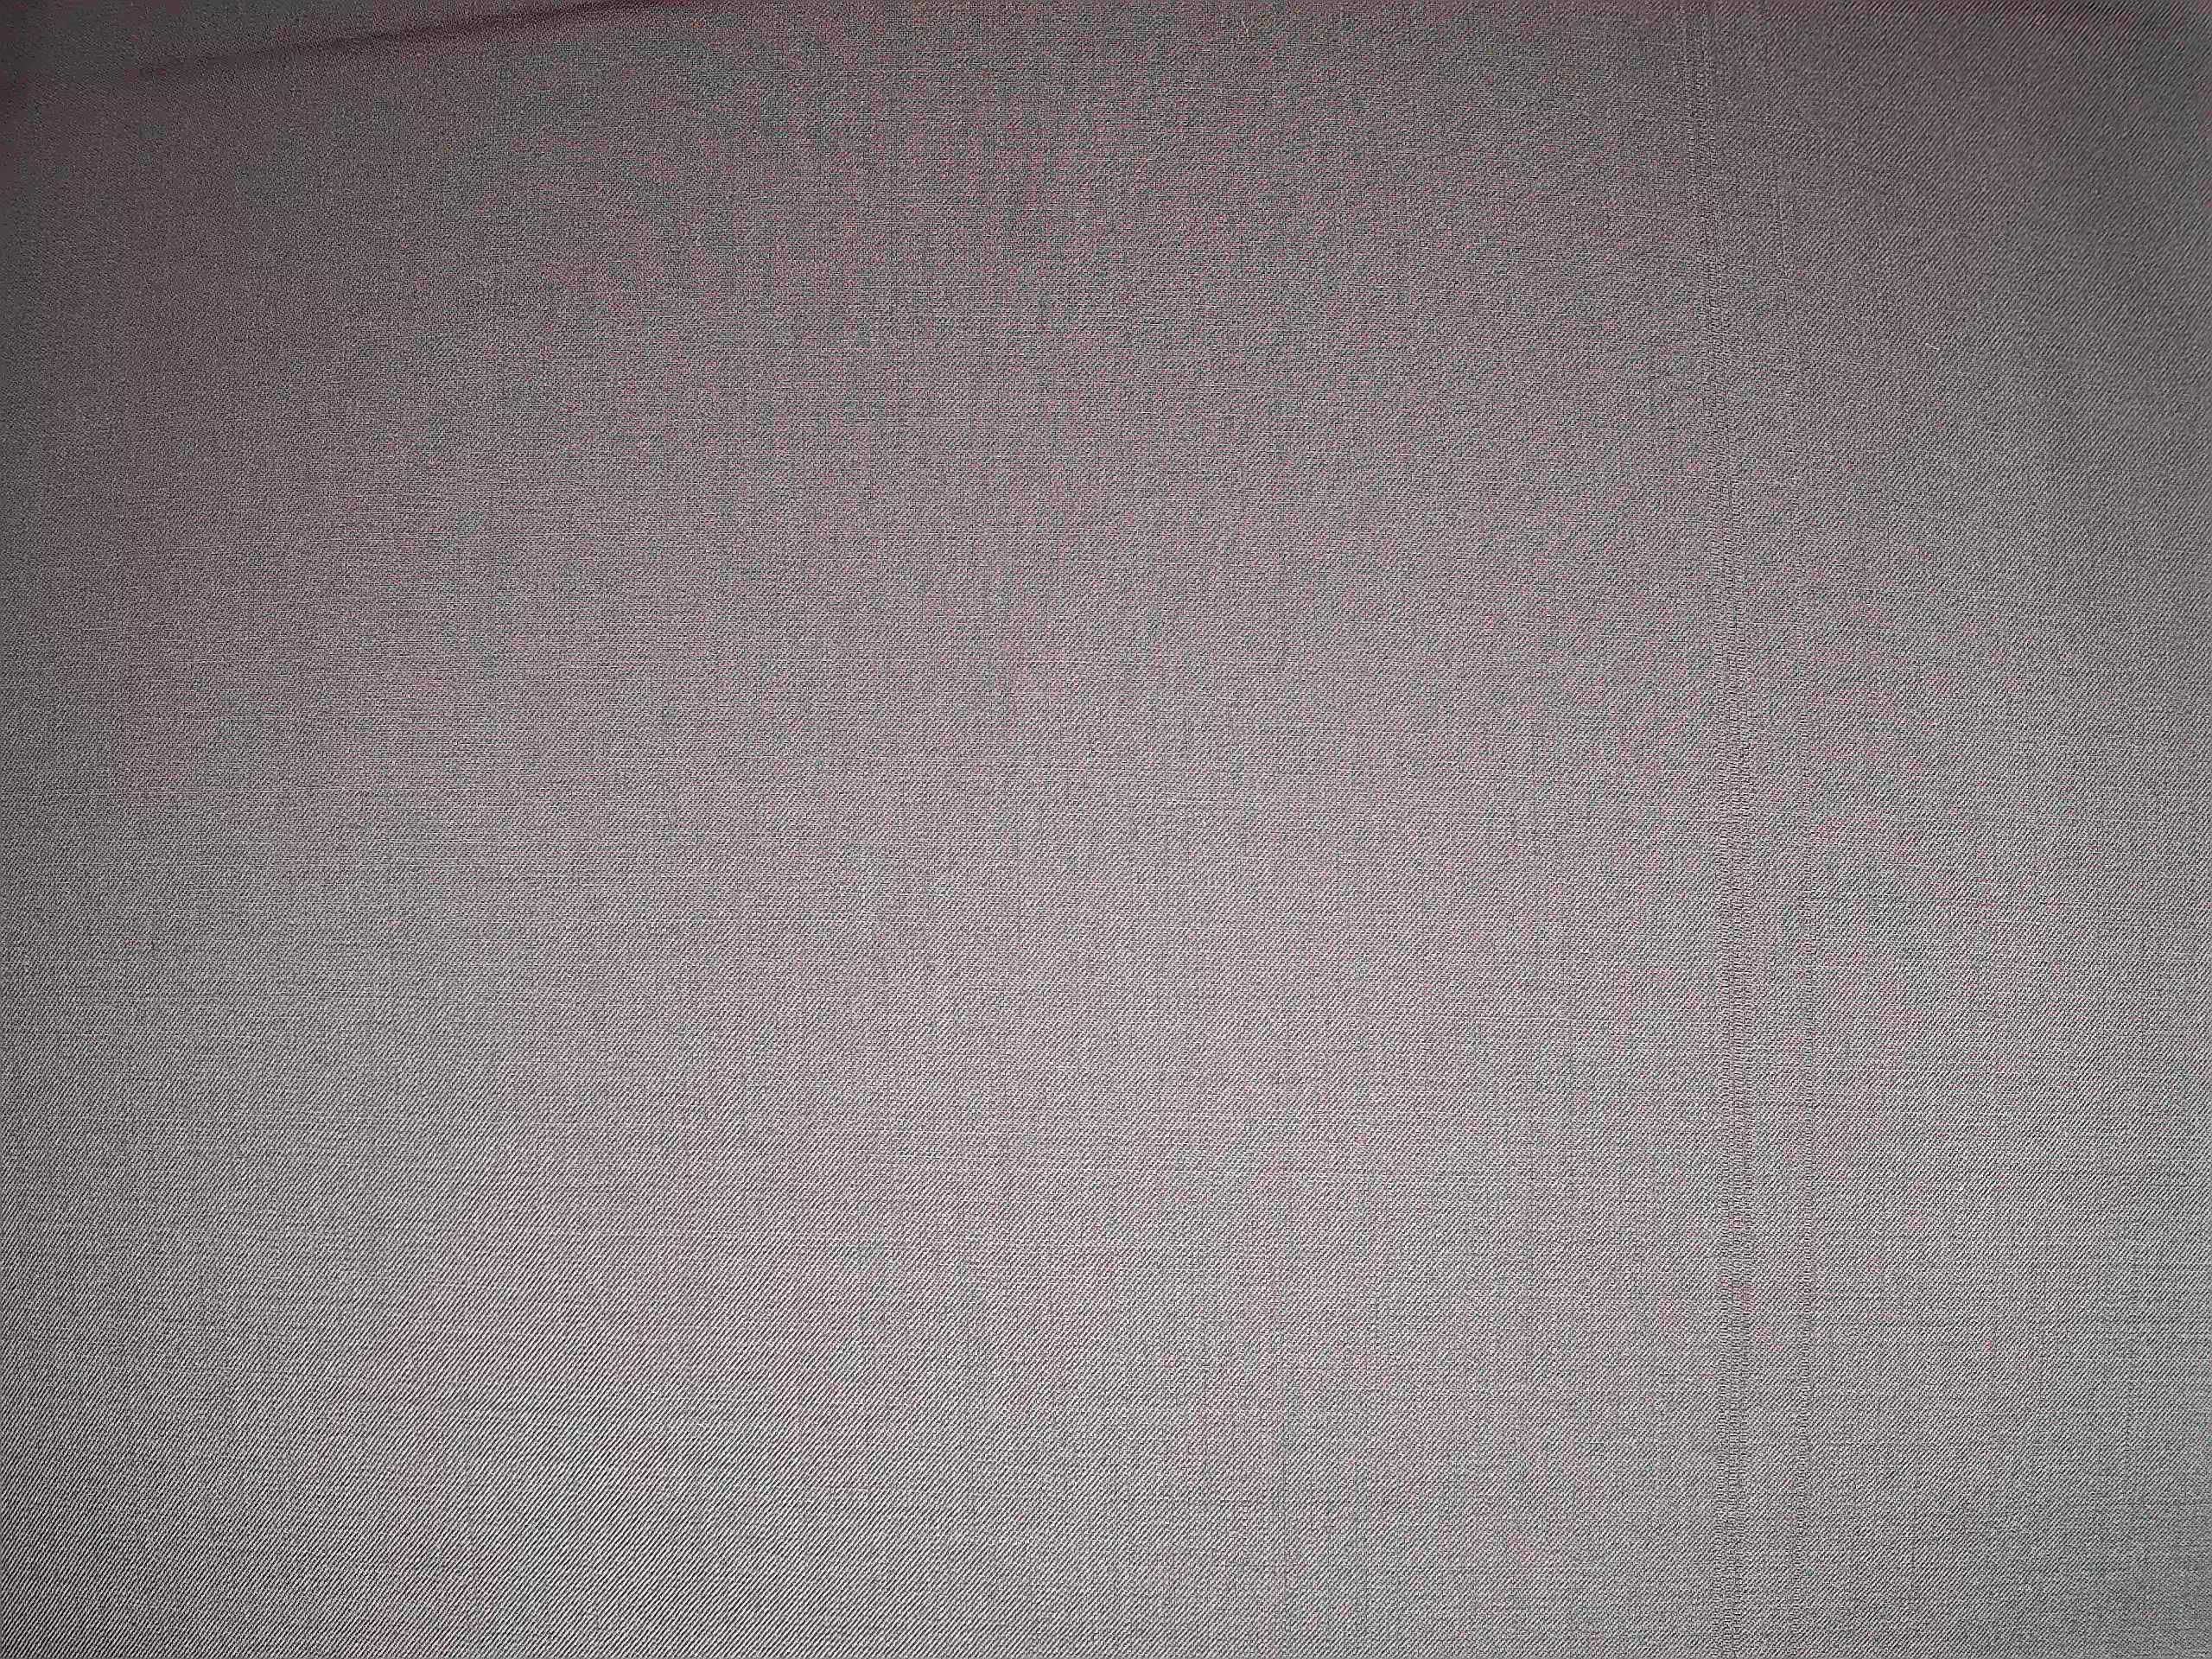lacking-warp: (1655, 5, 1778, 1643)
